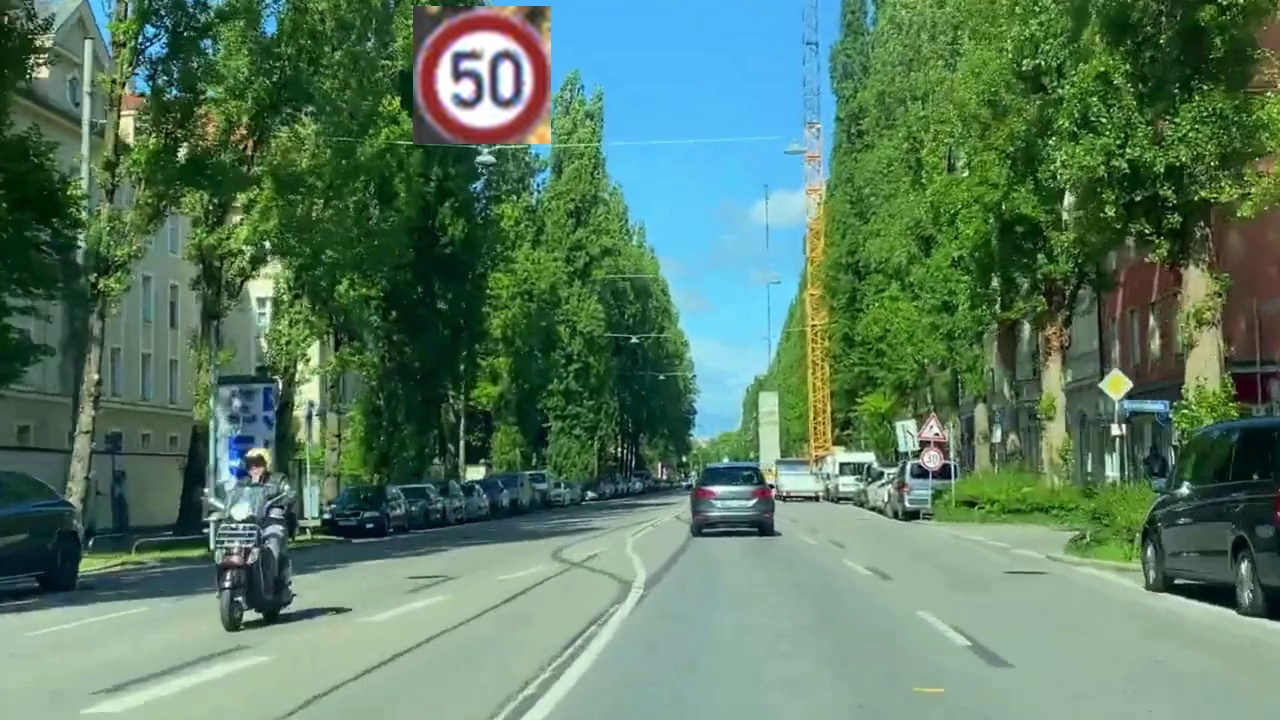Speed 50: (413, 6, 551, 144)
